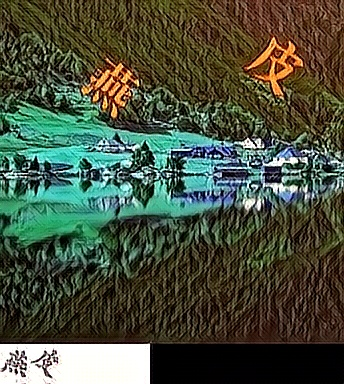C6A4: (242, 33, 304, 97)
D1E0: (79, 55, 141, 119)
